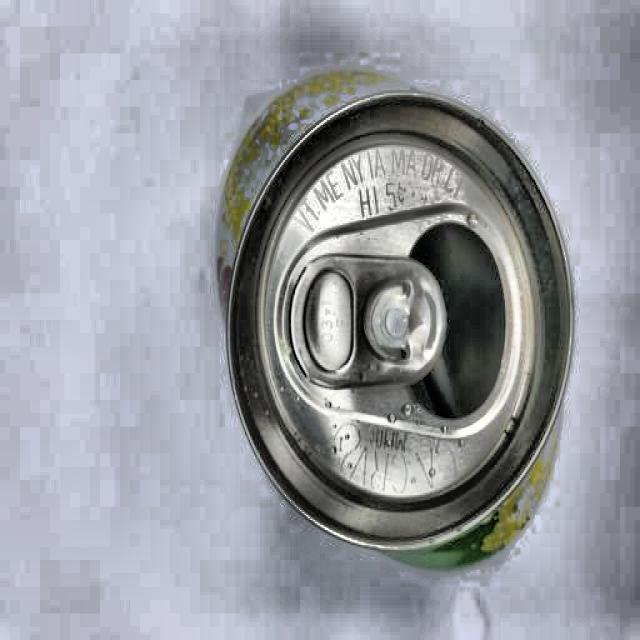metal: (215, 66, 576, 573)
